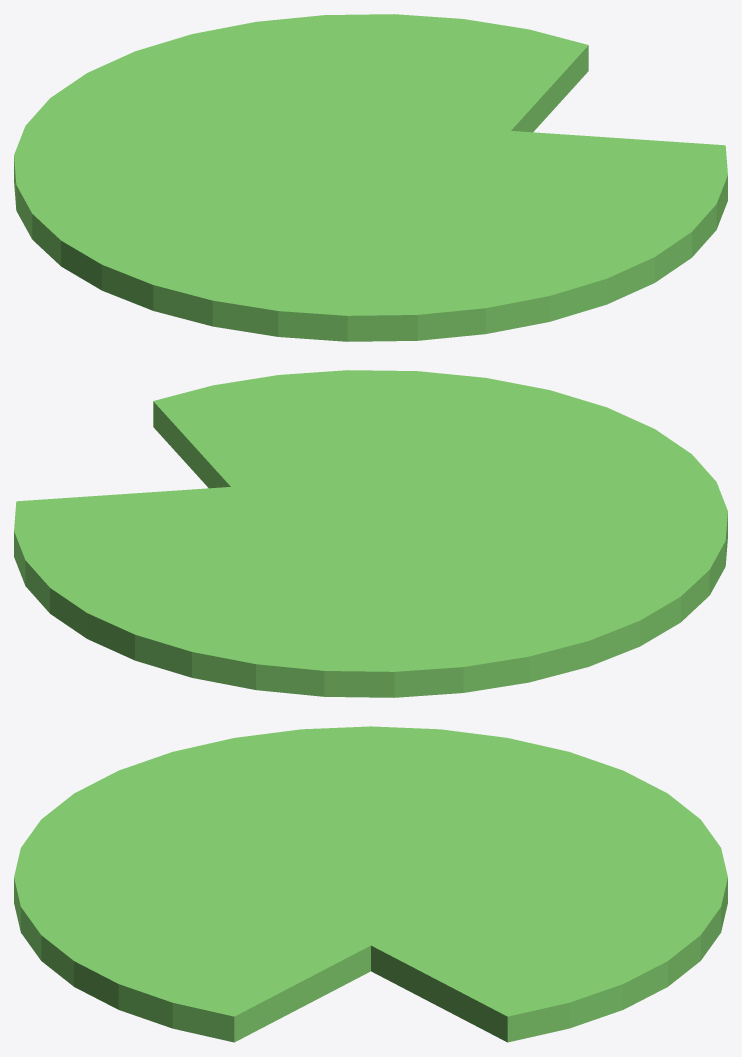
Rendered from Grass.gltf.
3 renders of one model, top to bottom at view 1: azimuth 30°, elevation 25°; view 2: azimuth 150°, elevation 25°; view 3: azimuth 270°, elevation 25°, orthographic.
Visible parts, largest first — view 1: 円柱; view 2: 円柱; view 3: 円柱.
Boxes of the visible parts, x1,y1,x2,y2 form: 円柱: [14, 14, 727, 341]; 円柱: [14, 370, 727, 697]; 円柱: [14, 726, 727, 1042].
Bounding box in the file's own units: 9.62 × 0.4 × 10.
1 material, 1 textured.
